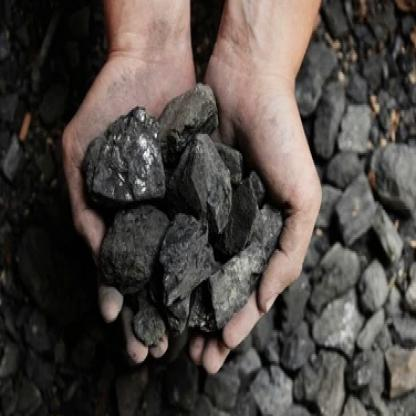Sedimentary_coal: (116, 156, 197, 302)
